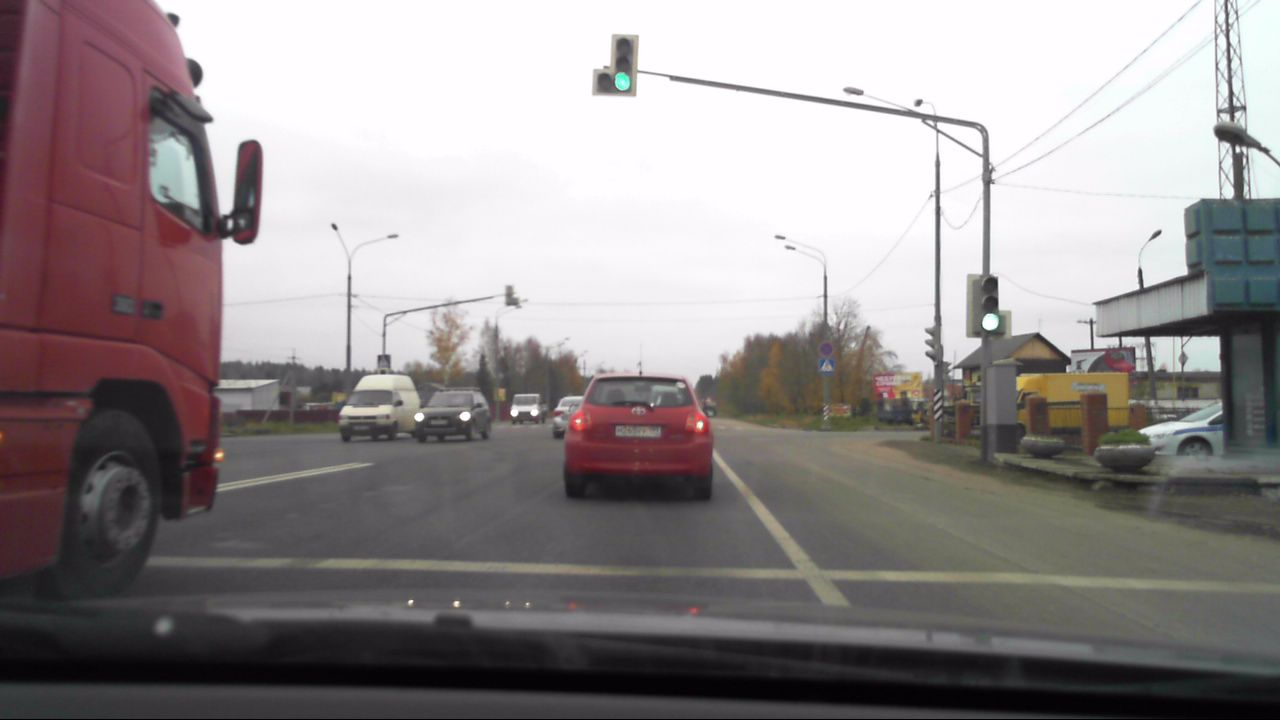No Parking: (817, 339, 835, 357)
